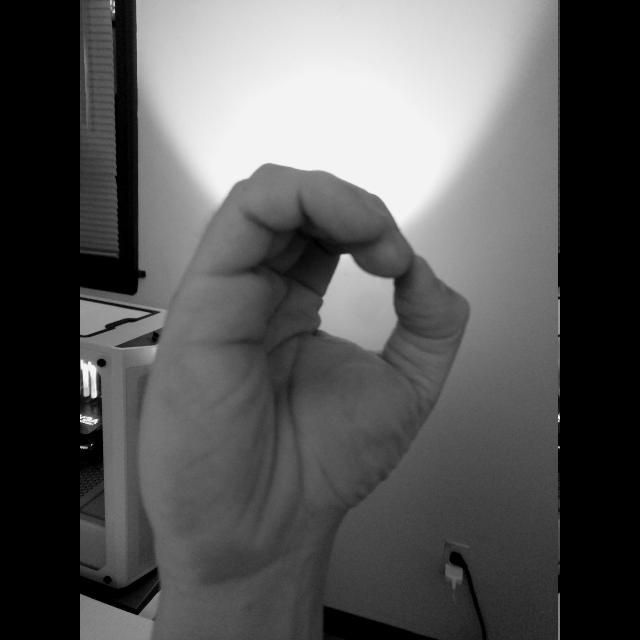O: (130, 158, 478, 582)
